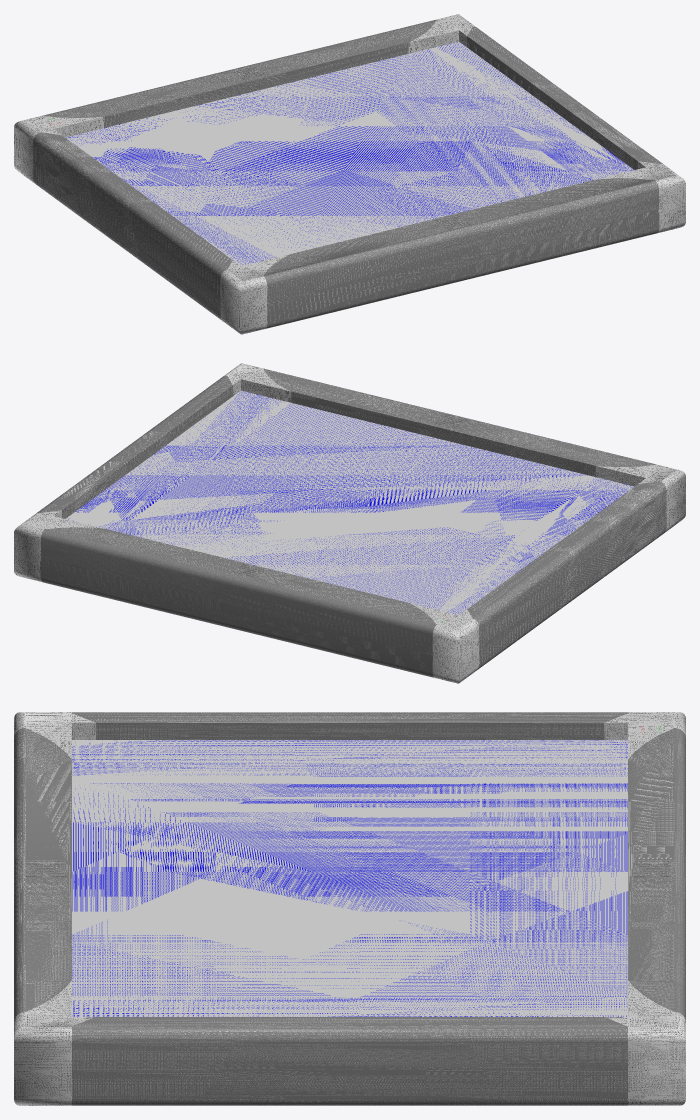
Rendered from original-86.obj.
The picture shows the model from 3 angles, top to bottom: view 1: azimuth 30°, elevation 25°; view 2: azimuth 150°, elevation 25°; view 3: azimuth 270°, elevation 25°; orthographic projection. The views are drawn at different scales.
Visible parts, largest first — view 1: mesh11/mesh11-geometry#mesh11-geometry; view 2: mesh11/mesh11-geometry#mesh11-geometry; view 3: mesh11/mesh11-geometry#mesh11-geometry.
Boxes of the visible parts, x1,y1,x2,y2 form: mesh11/mesh11-geometry#mesh11-geometry: (14,14,685,334); mesh11/mesh11-geometry#mesh11-geometry: (14,363,685,683); mesh11/mesh11-geometry#mesh11-geometry: (14,712,685,1105).
Size of the model in its own units: 1.15 by 0.1292 by 1.01.
